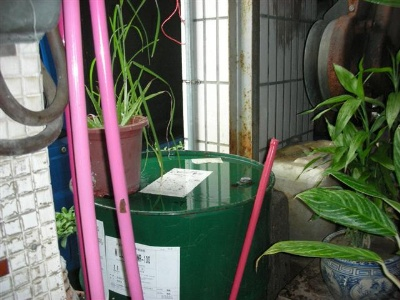bucket: (94, 149, 276, 300)
